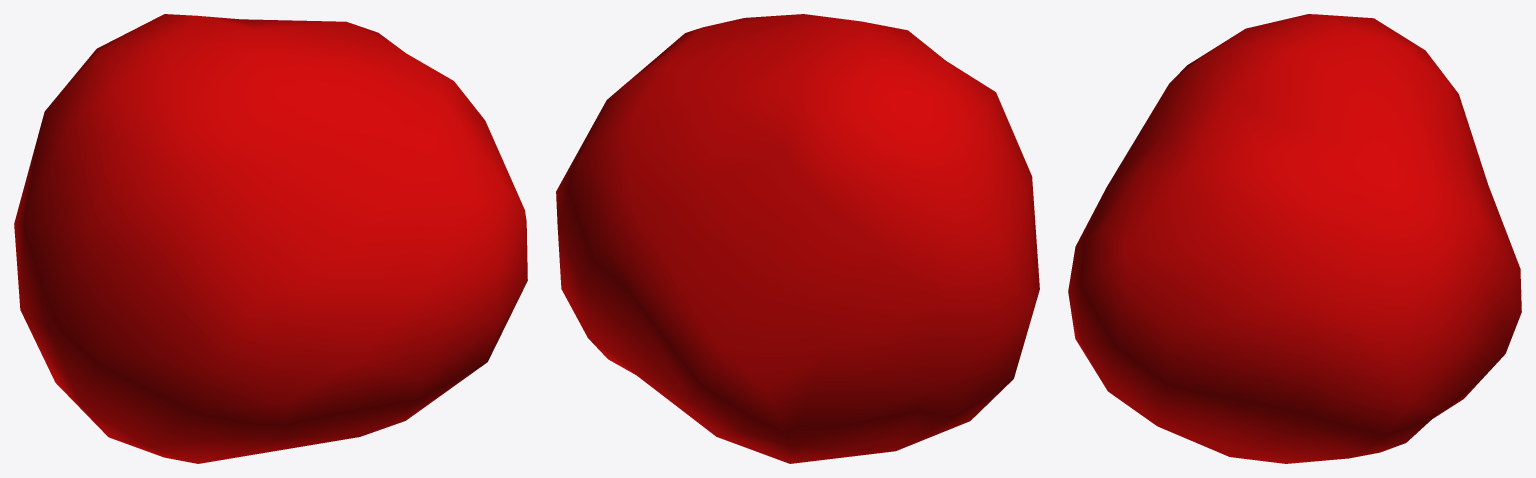
The model's file is vesicle_a_reduce_bl.dae.
The picture shows the model from 3 angles, left to right: view 1: azimuth 30°, elevation 25°; view 2: azimuth 150°, elevation 25°; view 3: azimuth 270°, elevation 25°; orthographic projection. The views are drawn at different scales.
Visible parts, largest first — view 1: vesicle_a_reduce; view 2: vesicle_a_reduce; view 3: vesicle_a_reduce.
Part boxes in pixels (x1,y1,x2,y2): vesicle_a_reduce: (14, 14, 527, 463); vesicle_a_reduce: (556, 14, 1039, 463); vesicle_a_reduce: (1068, 14, 1521, 463).
Size of the model in its own units: 4.37 by 4.03 by 3.83.
